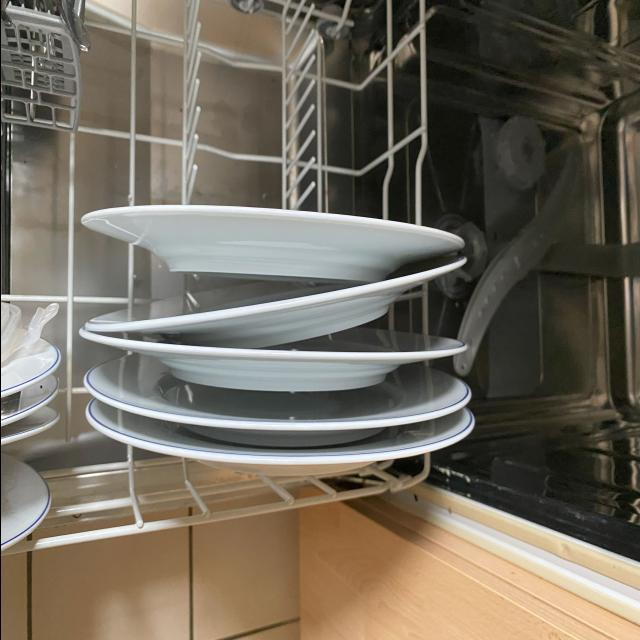empty_slot: (124, 0, 382, 205)
